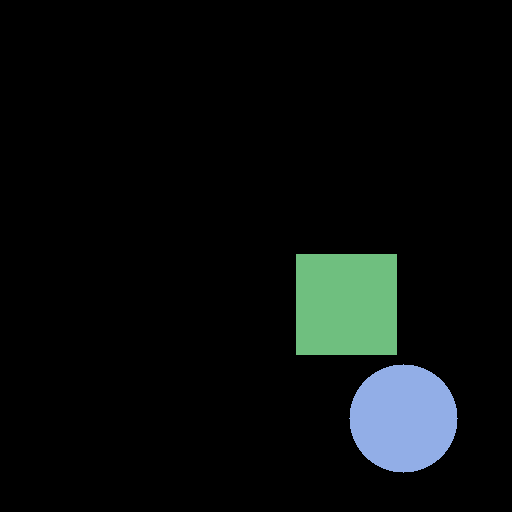circle: (349, 364, 457, 472)
square: (296, 254, 396, 354)
